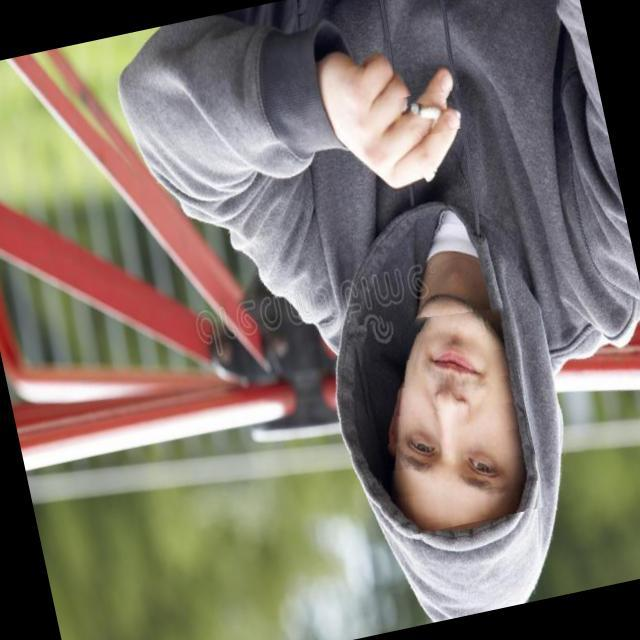cigarette: (397, 84, 471, 140)
